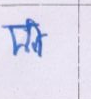i_matra: (28, 19, 43, 57)
